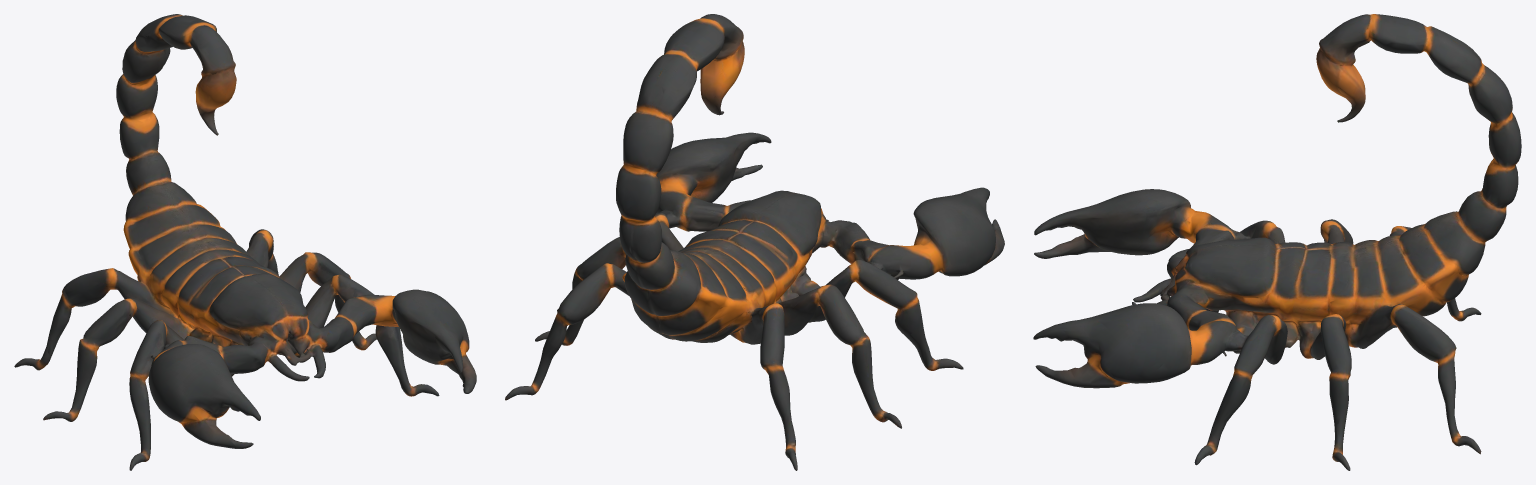
The model's file is giant_scorpion.glb.
3 renders of one model, left to right at view 1: azimuth 30°, elevation 25°; view 2: azimuth 150°, elevation 25°; view 3: azimuth 270°, elevation 25°, orthographic. The views are drawn at different scales.
Size of the model in its own units: 1.69 by 1.67 by 2.
1 material, 1 textured.
